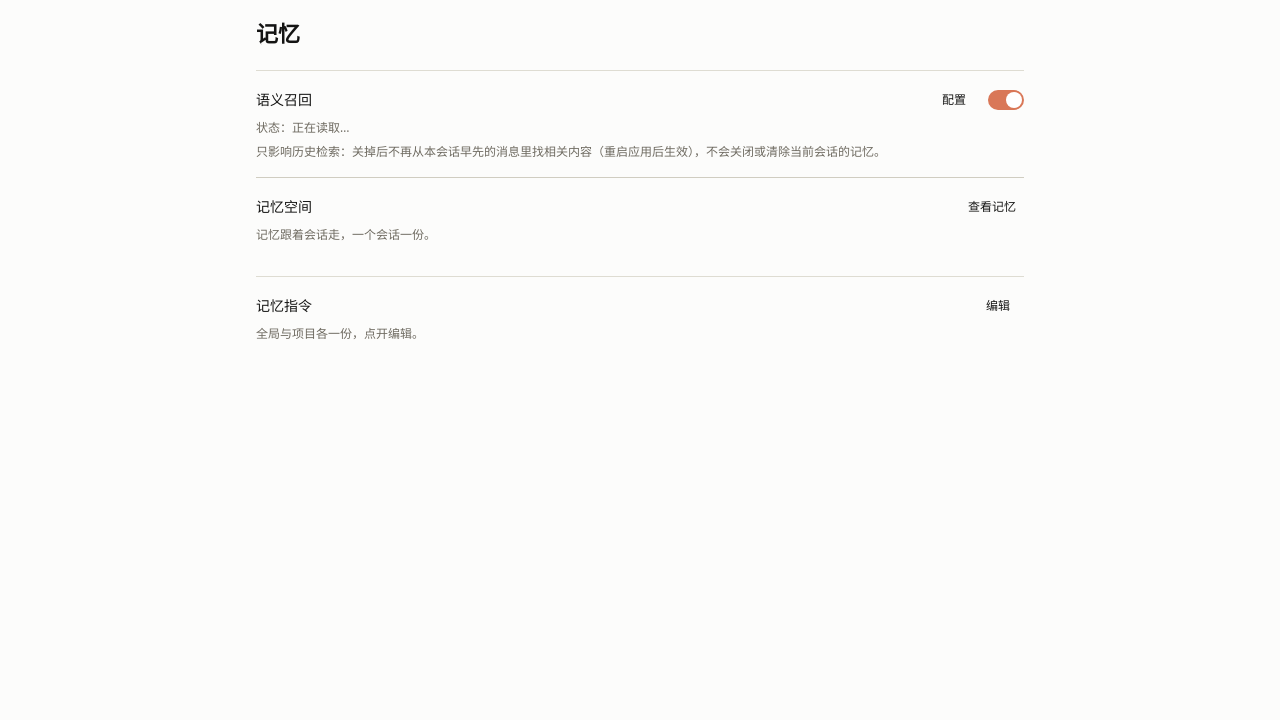
Test: 记忆空间（「记忆」栏的入口弹窗） › 打开后只看当前会话那一份：说明写明会话名、内容在限高滚动区里、正文只一处标题
Click the button with test id "memory-space-open" at (992, 207), box [960,194,1024,220]
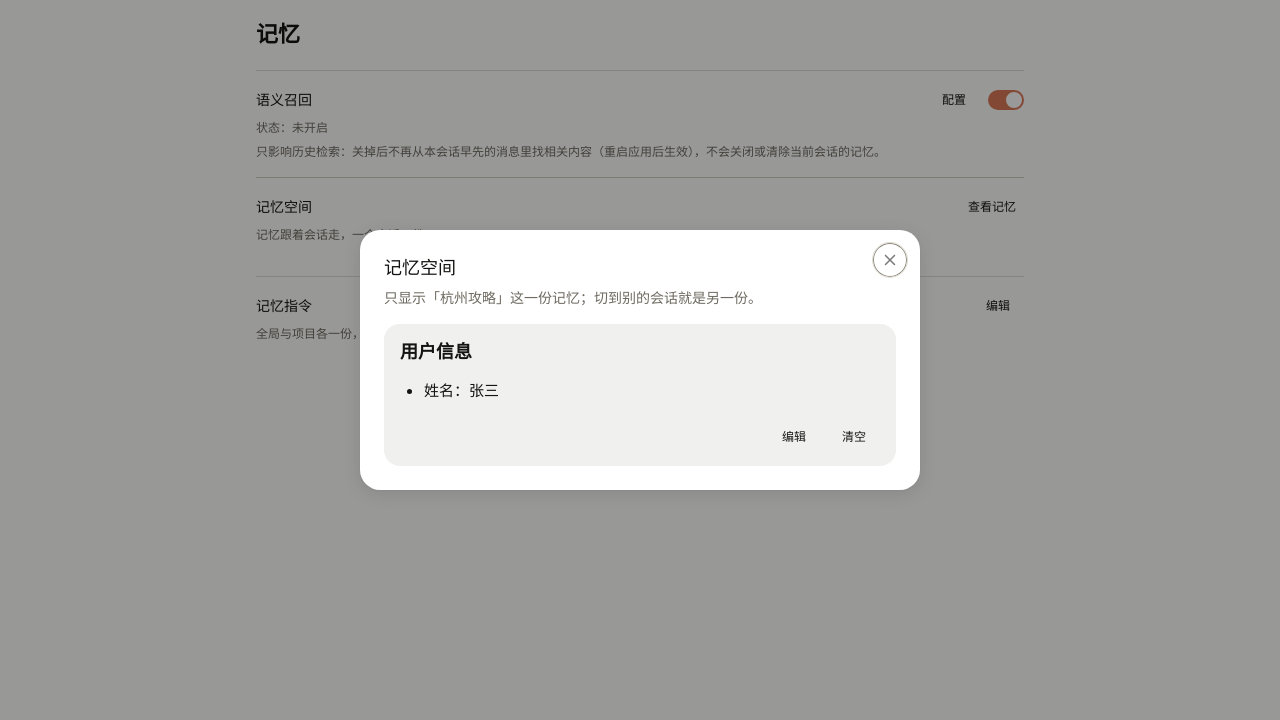
Now the element with test id "memory-content" shows "张三", box [424,380,499,400]
Now the dialog shows "杭州攻略", box [384,288,762,307]
Now the number of headings "记忆空间" is 1, box [384,255,456,279]
